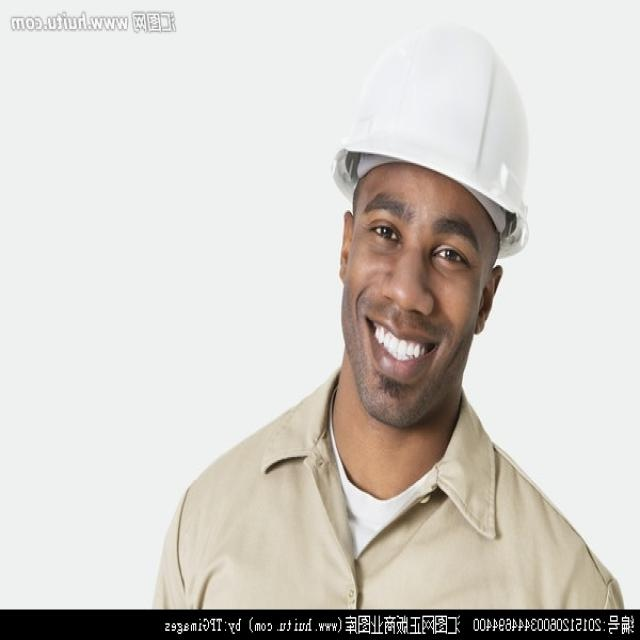Con_Casco: (334, 23, 533, 416)
